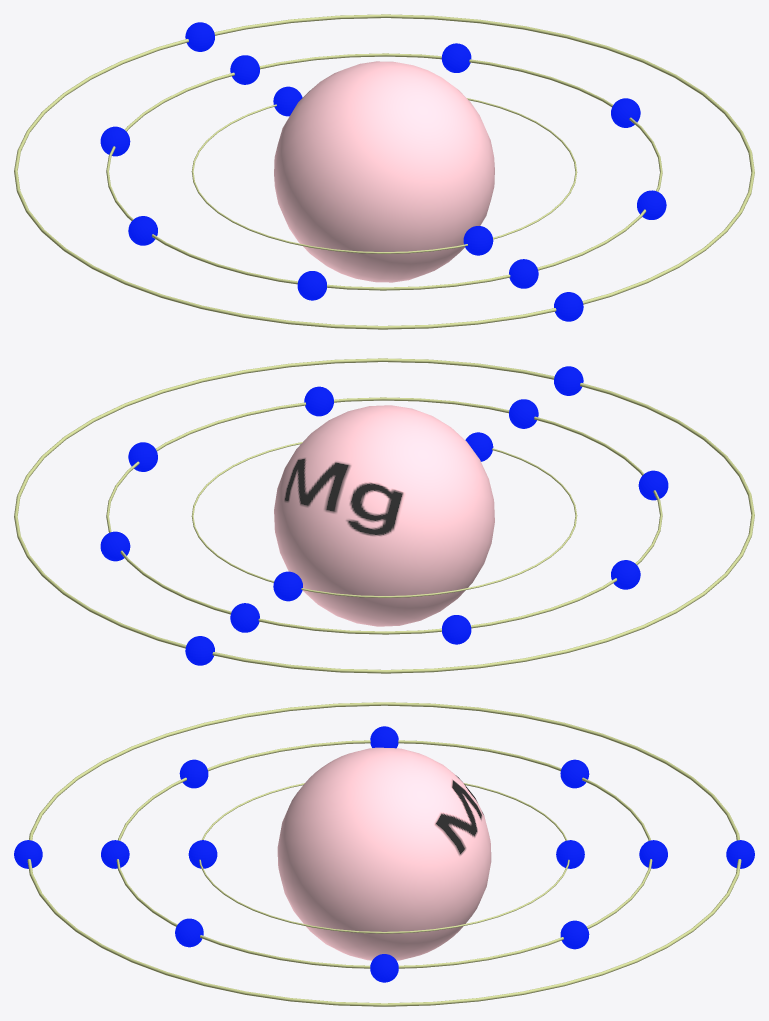
3 renders of one model, top to bottom at view 1: azimuth 30°, elevation 25°; view 2: azimuth 150°, elevation 25°; view 3: azimuth 270°, elevation 25°, orthographic. The views are drawn at different scales.
Visible parts, largest first — view 1: 球体, 贝塞尔圆环.002, 贝塞尔圆环.001, 贝塞尔圆环, 球体.008, 球体.002, 球体.009, 球体.004, 球体.007, 球体.012, 球体.006, 球体.003 (+4 smaller); view 2: 球体, 贝塞尔圆环.002, 贝塞尔圆环.001, 贝塞尔圆环, 球体.007, 球体.005, 球体.001, 球体.010, 球体.009, 球体.003, 球体.002, 球体.012 (+4 smaller); view 3: 球体, 贝塞尔圆环.002, 贝塞尔圆环.001, 贝塞尔圆环, 球体.011, 球体.002, 球体.010, 球体.004, 球体.001, 球体.008, 球体.005, 球体.009 (+4 smaller).
Boxes of the visible parts, x1,y1,x2,y2 form: 球体: (274,61,494,282); 贝塞尔圆环.002: (14,14,754,329); 贝塞尔圆环.001: (106,53,662,290); 贝塞尔圆环: (191,98,577,253); 球体.008: (297,271,326,300); 球体.002: (441,43,471,72); 球体.009: (509,259,538,288); 球体.004: (463,226,493,255); 球体.007: (230,55,259,84); 球体.012: (554,292,583,321); 球体.006: (128,216,157,245); 球体.003: (185,22,214,51); 球体: (274,405,494,626); 贝塞尔圆环.002: (14,358,754,673); 贝塞尔圆环.001: (106,397,662,634); 贝塞尔圆环: (191,442,577,597); 球体.007: (230,603,259,632); 球体.005: (442,615,471,644); 球体.001: (273,571,302,601); 球体.010: (304,386,333,416); 球体.009: (509,399,538,428); 球体.003: (185,636,214,665); 球体.002: (100,531,130,561); 球体.012: (554,366,583,395); 球体: (277,747,491,960); 贝塞尔圆环.002: (27,702,741,1006); 贝塞尔圆环.001: (116,740,652,968); 贝塞尔圆环: (199,783,569,933); 球体.011: (370,954,398,982); 球体.002: (560,920,589,949); 球体.010: (175,918,203,947); 球体.004: (188,840,217,868); 球体.001: (556,840,584,868); 球体.008: (179,759,208,788); 球体.005: (560,759,589,788); 球体.009: (101,840,129,868).
Size of the model in its own units: 2.34 by 0.6996 by 2.42.
Materials: 4 (1 with a texture image).
